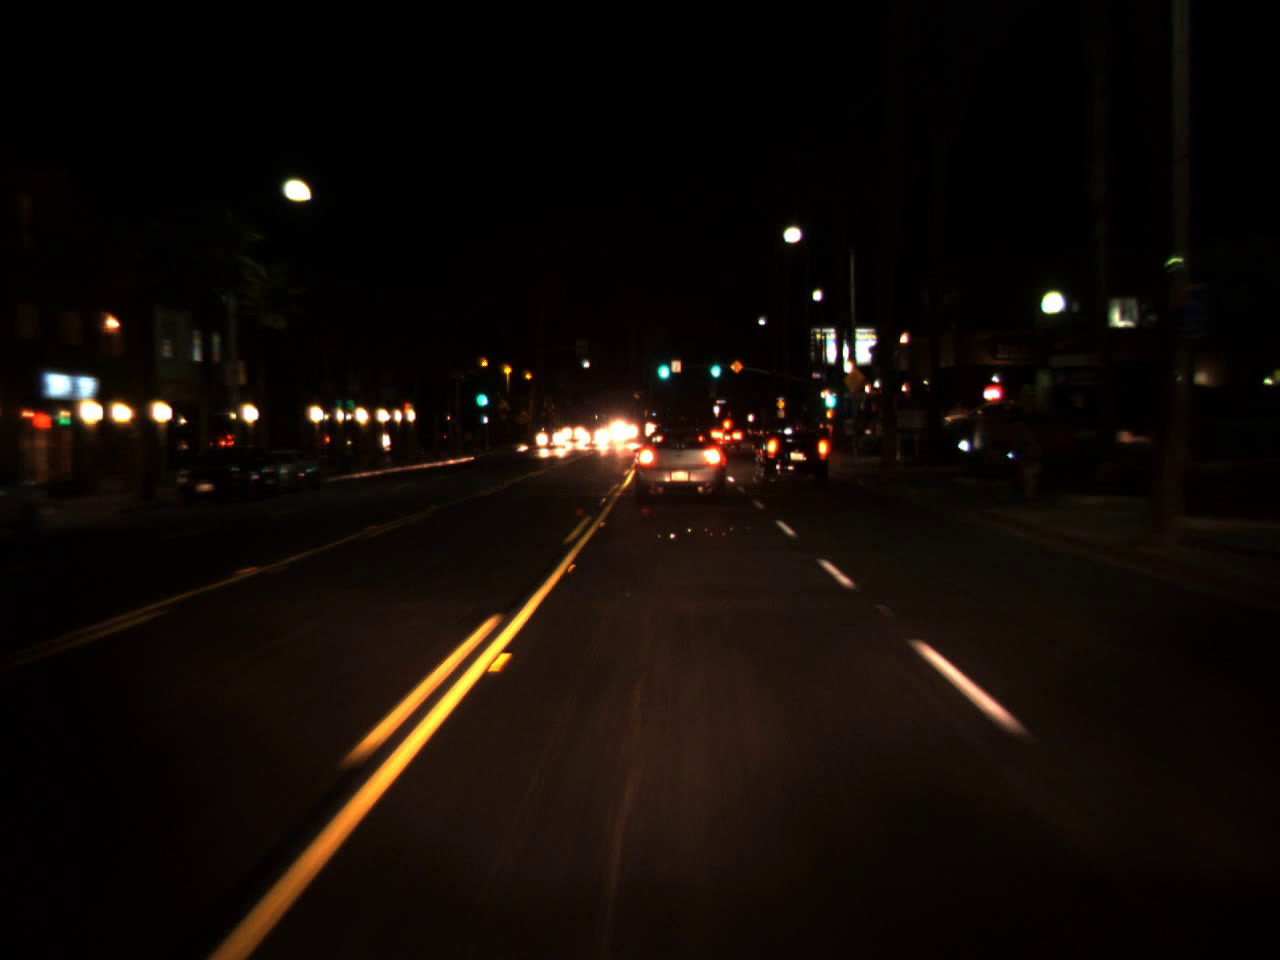go: (654, 348, 672, 384), (819, 377, 838, 413), (472, 378, 488, 411), (708, 354, 722, 378)
